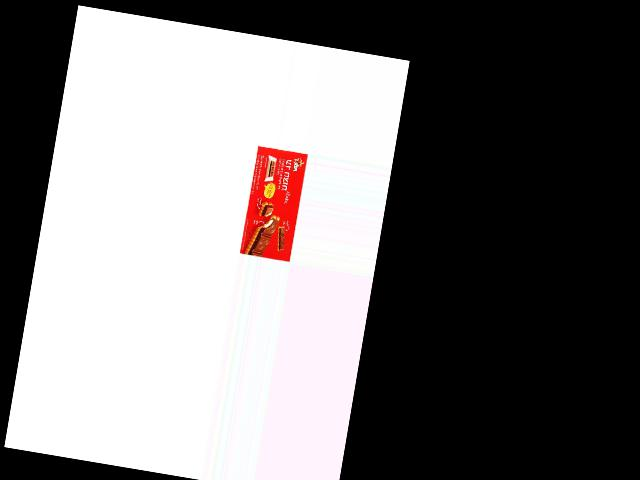chocolate: (239, 143, 308, 262)
